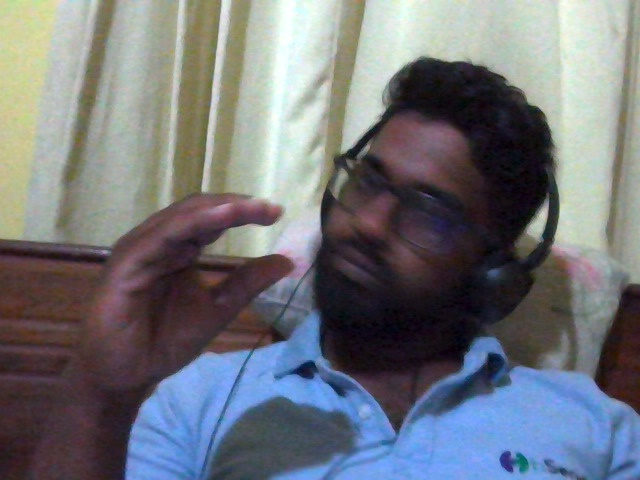No: (50, 167, 315, 406)
